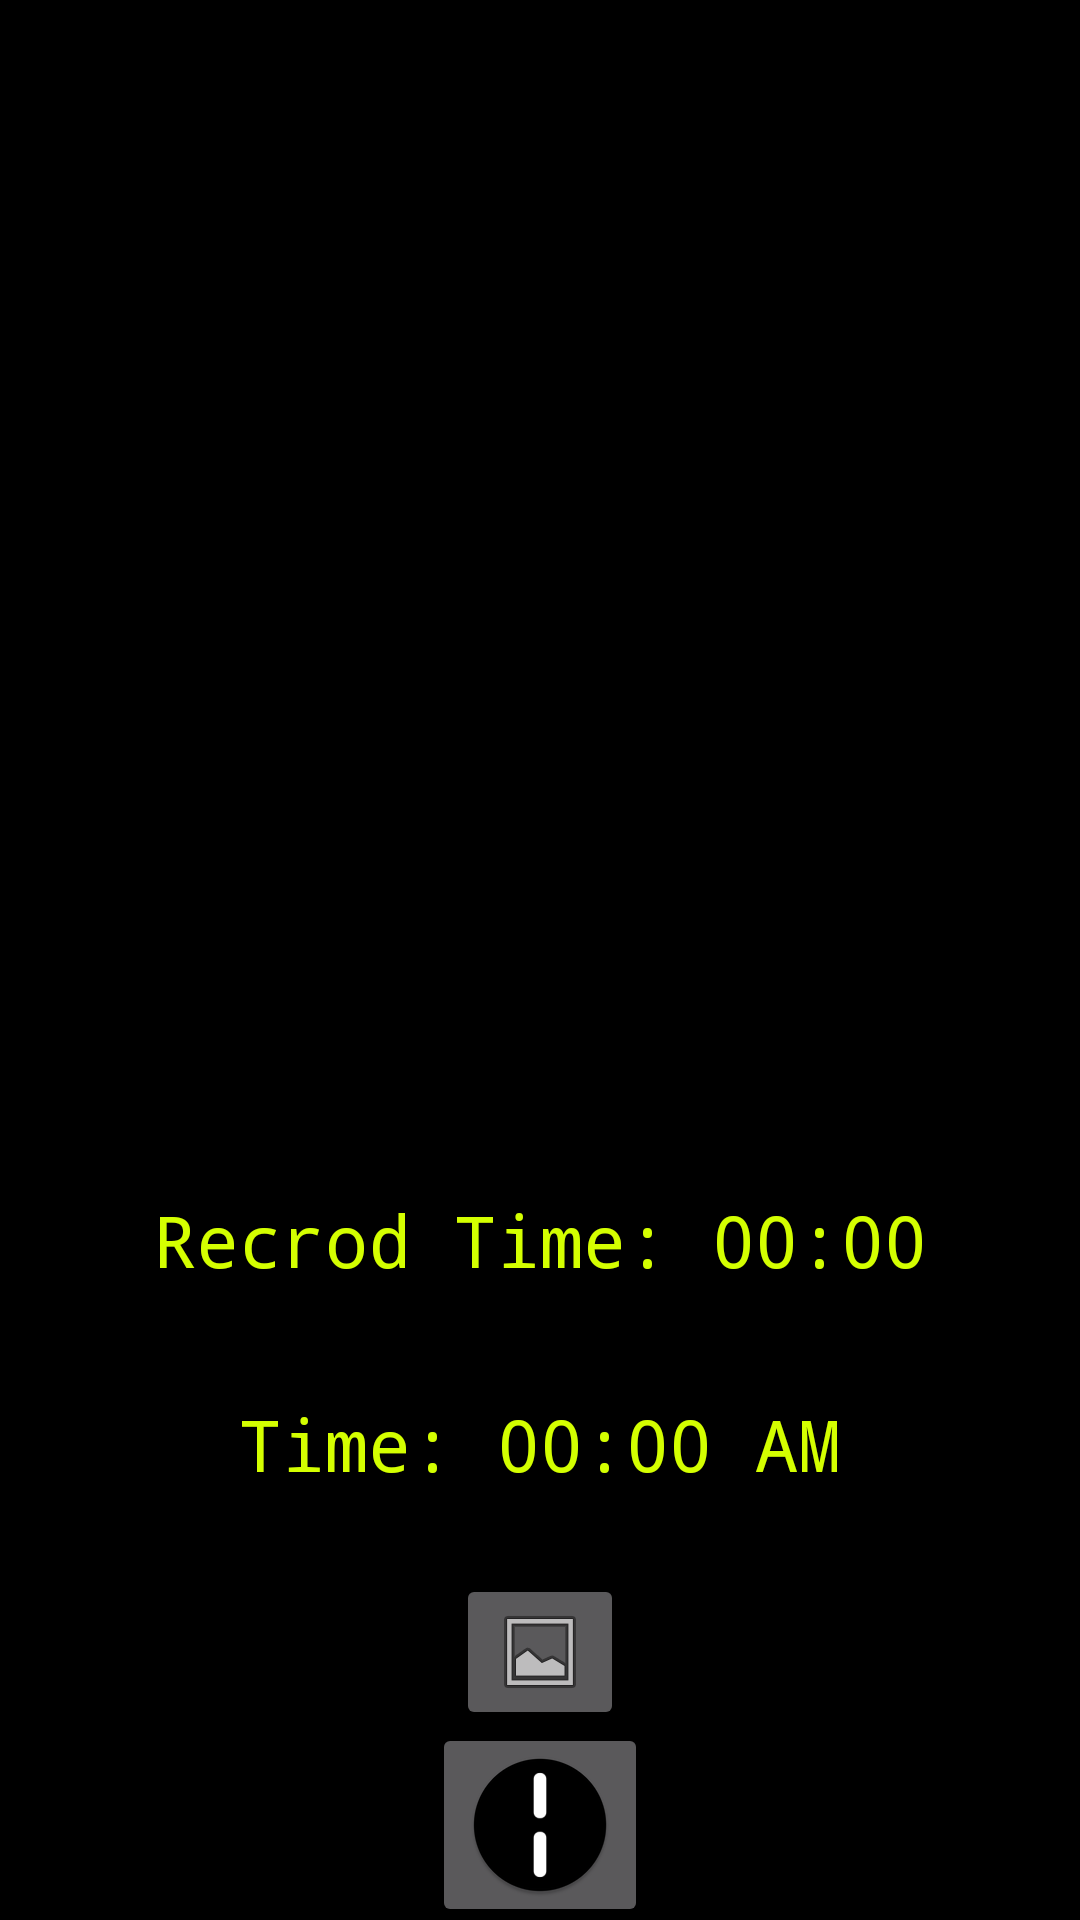

Icons on this 1080px×1920px Android screen, each with the point to tap as [x,y]:
gallery: [540,1652]
